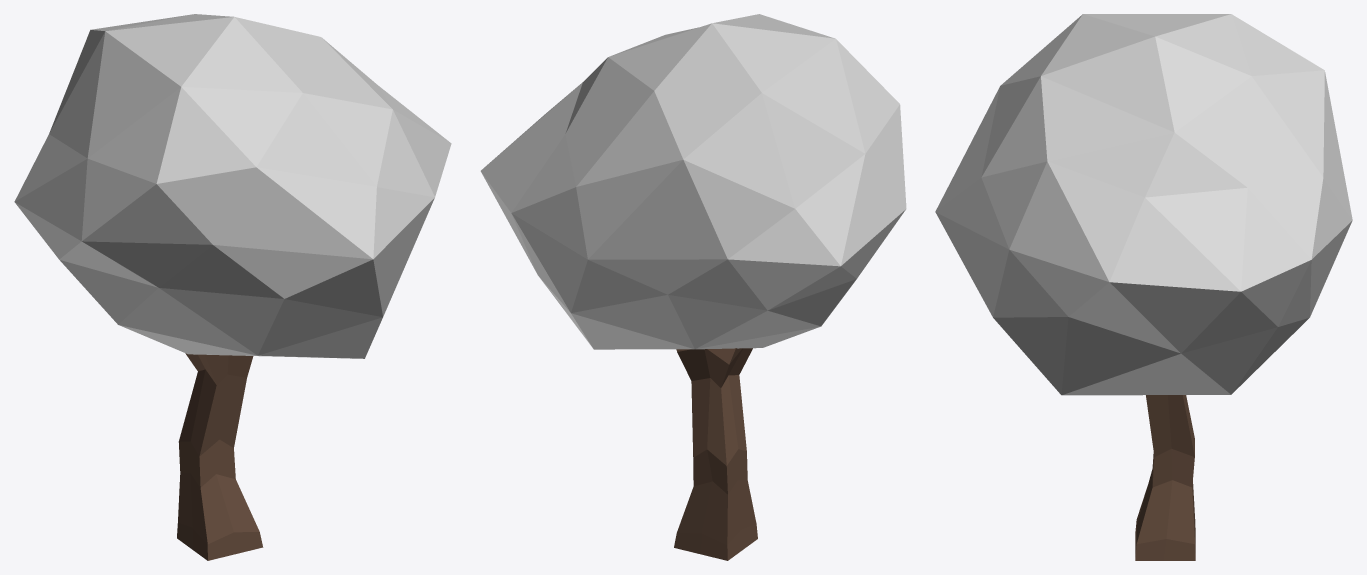
File: Tree_32_White.fbx
3 views of the same model, side by side, from view 1: azimuth 30°, elevation 25°; view 2: azimuth 150°, elevation 25°; view 3: azimuth 270°, elevation 25° (orthographic). The views are drawn at different scales.
Visible parts, largest first — view 1: Tree_32_White_Part_1, Tree_32_White_Part_2; view 2: Tree_32_White_Part_1, Tree_32_White_Part_2; view 3: Tree_32_White_Part_1, Tree_32_White_Part_2.
Boxes of the visible parts, bbox=[...] form: Tree_32_White_Part_1: bbox=[14, 14, 451, 358]; Tree_32_White_Part_2: bbox=[177, 353, 263, 560]; Tree_32_White_Part_1: bbox=[480, 14, 906, 349]; Tree_32_White_Part_2: bbox=[674, 348, 757, 560]; Tree_32_White_Part_1: bbox=[935, 14, 1352, 395]; Tree_32_White_Part_2: bbox=[1135, 395, 1195, 560].
Bounding box in the file's own units: 597 × 814 × 598.
